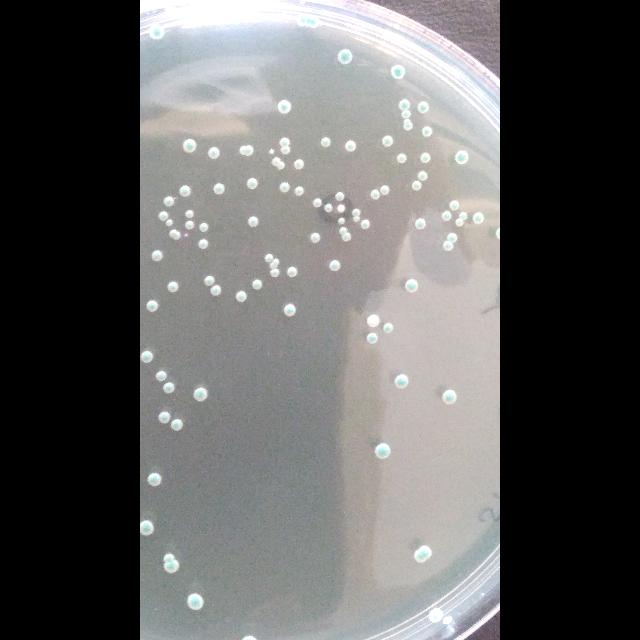colony: (414, 545, 432, 562), (298, 14, 319, 28), (188, 594, 204, 610), (441, 390, 458, 405), (164, 559, 180, 574), (375, 444, 391, 459), (394, 374, 409, 389), (149, 25, 164, 40), (140, 520, 154, 536), (338, 49, 352, 65), (455, 150, 469, 164), (391, 65, 405, 79), (429, 608, 442, 622), (148, 472, 161, 486), (194, 388, 208, 401), (366, 315, 380, 328), (405, 279, 419, 292), (182, 139, 196, 152), (278, 100, 291, 114), (140, 350, 154, 362), (239, 145, 254, 156), (159, 411, 171, 424), (162, 382, 175, 394), (146, 300, 159, 312), (382, 135, 394, 148), (170, 419, 182, 431), (366, 332, 378, 344), (382, 322, 394, 334), (284, 304, 296, 316), (286, 266, 298, 278), (472, 212, 484, 224), (418, 101, 429, 114), (156, 370, 168, 381), (236, 291, 248, 302), (169, 229, 181, 240), (179, 185, 191, 196), (248, 216, 259, 228), (208, 148, 220, 159), (246, 178, 258, 189), (442, 240, 454, 251), (415, 218, 426, 230), (399, 99, 410, 111), (421, 126, 432, 138), (168, 281, 179, 292), (210, 285, 221, 296), (204, 275, 215, 286), (151, 250, 162, 261), (329, 260, 340, 271), (214, 184, 225, 195), (345, 140, 356, 151), (420, 152, 430, 164), (166, 8, 178, 18), (402, 119, 412, 131), (252, 279, 262, 290), (198, 239, 209, 249), (370, 189, 380, 200), (294, 159, 304, 170), (320, 138, 331, 148), (449, 200, 459, 211), (159, 211, 169, 221), (164, 196, 174, 206), (199, 222, 209, 232), (270, 259, 280, 269), (310, 232, 320, 242), (280, 182, 290, 192), (448, 232, 458, 242), (335, 191, 345, 201), (360, 219, 370, 229), (380, 185, 390, 195), (396, 154, 406, 164), (418, 171, 428, 181), (411, 181, 421, 191), (441, 211, 451, 221), (185, 220, 194, 230), (270, 269, 280, 278), (295, 186, 304, 196), (341, 232, 351, 241), (312, 199, 322, 208), (280, 146, 290, 155), (401, 110, 411, 119), (279, 138, 290, 146), (185, 210, 194, 219), (459, 211, 468, 220), (271, 158, 281, 166), (265, 254, 274, 262), (455, 218, 464, 226), (351, 209, 361, 216), (324, 204, 332, 212), (339, 228, 348, 235), (278, 161, 285, 170), (338, 204, 345, 212), (338, 218, 345, 225), (352, 216, 360, 222), (166, 219, 172, 226), (269, 149, 274, 154)
